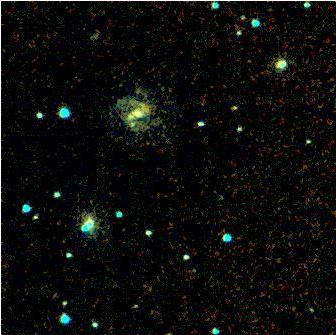star: (117, 105, 147, 135)
